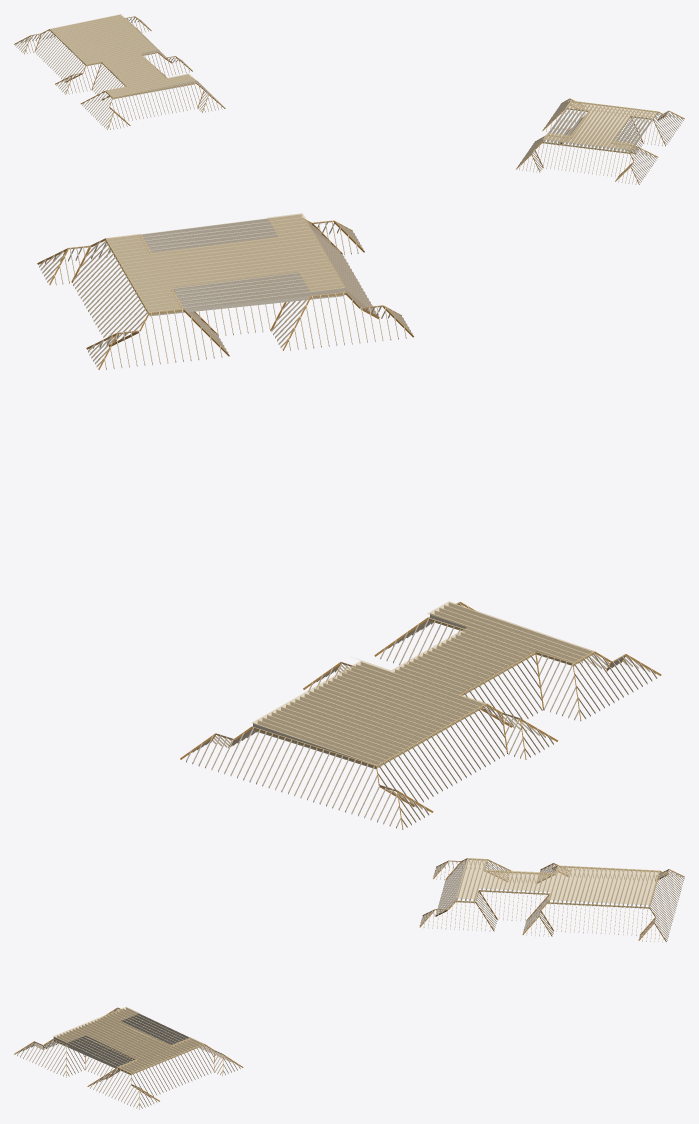
Rendered from stage-7.glb.
The picture shows the model from 3 angles, top to bottom: view 1: azimuth 30°, elevation 25°; view 2: azimuth 150°, elevation 25°; view 3: azimuth 270°, elevation 25°; orthographic projection. The views are drawn at different scales.
Parts seen in each view (by area): view 1: Geom3D_M323 osb 18 OSB3 deck L0, Geom3D_M276 firring 75 x 27-404 firring L15054, Geom3D_CJ275 ceiling joist 75 x 295 C24 L15054, Geom3D_R33 common 47.0 x 97.0 C24 L4047, Geom3D_JH29 jack hip 47.0 x 97.0 C24 L851, Geom3D_Ply 1, Geom3D_CP35 cripple 47.0 x 97.0 C24 L3283, Geom3D_H01 hip 47 x 147 C24 L3347, Geom3D_V05 valley 63 x 147 C24 L3347; view 2: Geom3D_M323 osb 18 OSB3 deck L0, Geom3D_M276 firring 75 x 27-404 firring L15054, Geom3D_CJ275 ceiling joist 75 x 295 C24 L15054, Geom3D_R33 common 47.0 x 97.0 C24 L4047, Geom3D_JH29 jack hip 47.0 x 97.0 C24 L851, Geom3D_CP35 cripple 47.0 x 97.0 C24 L3283, Geom3D_H01 hip 47 x 147 C24 L3347, Geom3D_Ply 1; view 3: Geom3D_M323 osb 18 OSB3 deck L0, Geom3D_M276 firring 75 x 27-404 firring L15054, Geom3D_R33 common 47.0 x 97.0 C24 L4047, Geom3D_CJ275 ceiling joist 75 x 295 C24 L15054, Geom3D_JH29 jack hip 47.0 x 97.0 C24 L851, Geom3D_Ply 1, Geom3D_CP35 cripple 47.0 x 97.0 C24 L3283, Geom3D_H01 hip 47 x 147 C24 L3347.
Boxes of the visible parts, left/top/right/bottom form: Geom3D_M323 osb 18 OSB3 deck L0: left=50, top=14, right=657, bottom=150; Geom3D_M276 firring 75 x 27-404 firring L15054: left=50, top=14, right=656, bottom=152; Geom3D_CJ275 ceiling joist 75 x 295 C24 L15054: left=51, top=21, right=653, bottom=154; Geom3D_R33 common 47.0 x 97.0 C24 L4047: left=29, top=17, right=680, bottom=178; Geom3D_JH29 jack hip 47.0 x 97.0 C24 L851: left=15, top=17, right=683, bottom=184; Geom3D_Ply 1: left=49, top=29, right=657, bottom=153; Geom3D_CP35 cripple 47.0 x 97.0 C24 L3283: left=35, top=18, right=662, bottom=174; Geom3D_H01 hip 47 x 147 C24 L3347: left=14, top=16, right=684, bottom=184; Geom3D_V05 valley 63 x 147 C24 L3347: left=34, top=18, right=665, bottom=176; Geom3D_M323 osb 18 OSB3 deck L0: left=105, top=213, right=594, bottom=765; Geom3D_M276 firring 75 x 27-404 firring L15054: left=107, top=214, right=592, bottom=765; Geom3D_CJ275 ceiling joist 75 x 295 C24 L15054: left=107, top=228, right=592, bottom=769; Geom3D_R33 common 47.0 x 97.0 C24 L4047: left=68, top=222, right=642, bottom=822; Geom3D_JH29 jack hip 47.0 x 97.0 C24 L851: left=39, top=222, right=657, bottom=828; Geom3D_CP35 cripple 47.0 x 97.0 C24 L3283: left=73, top=220, right=610, bottom=802; Geom3D_H01 hip 47 x 147 C24 L3347: left=37, top=219, right=661, bottom=829; Geom3D_Ply 1: left=105, top=226, right=594, bottom=768; Geom3D_M323 osb 18 OSB3 deck L0: left=53, top=858, right=659, bottom=1072; Geom3D_M276 firring 75 x 27-404 firring L15054: left=53, top=858, right=658, bottom=1072; Geom3D_R33 common 47.0 x 97.0 C24 L4047: left=26, top=859, right=682, bottom=1104; Geom3D_CJ275 ceiling joist 75 x 295 C24 L15054: left=54, top=859, right=654, bottom=1074; Geom3D_JH29 jack hip 47.0 x 97.0 C24 L851: left=17, top=861, right=684, bottom=1108; Geom3D_Ply 1: left=53, top=858, right=659, bottom=1074; Geom3D_CP35 cripple 47.0 x 97.0 C24 L3283: left=43, top=859, right=663, bottom=1093; Geom3D_H01 hip 47 x 147 C24 L3347: left=14, top=858, right=684, bottom=1109.
Size of the model in its own units: 77.15 by 3.38 by 90.16.
